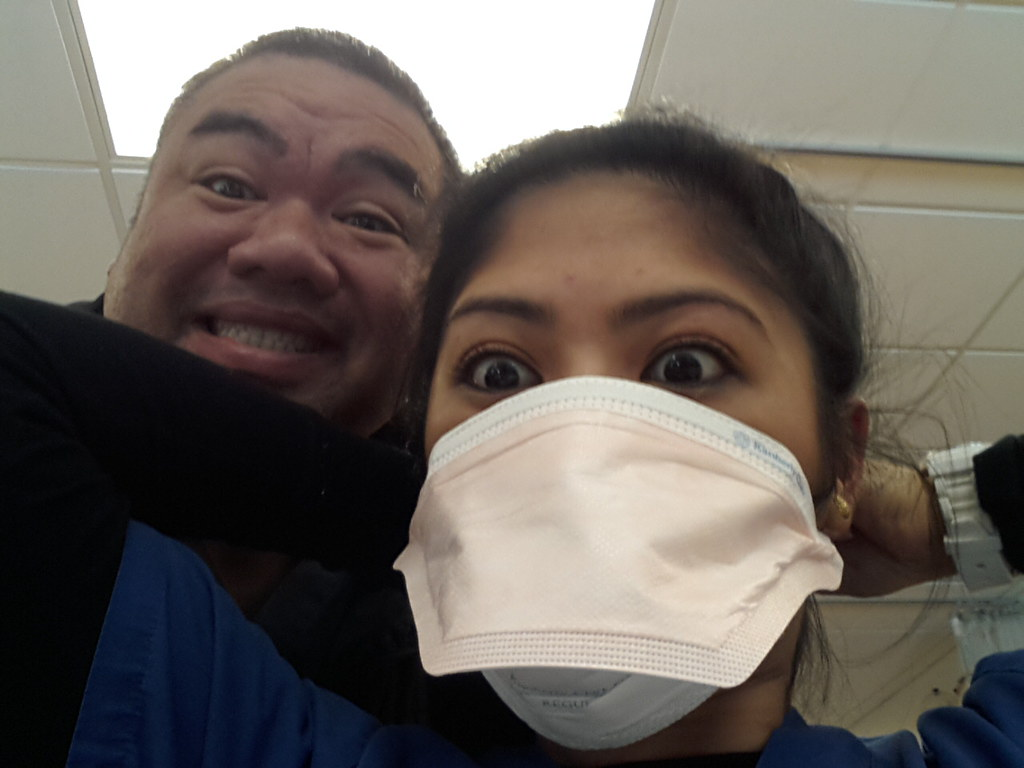bare: (131, 205, 410, 393)
n95: (385, 372, 837, 744)
